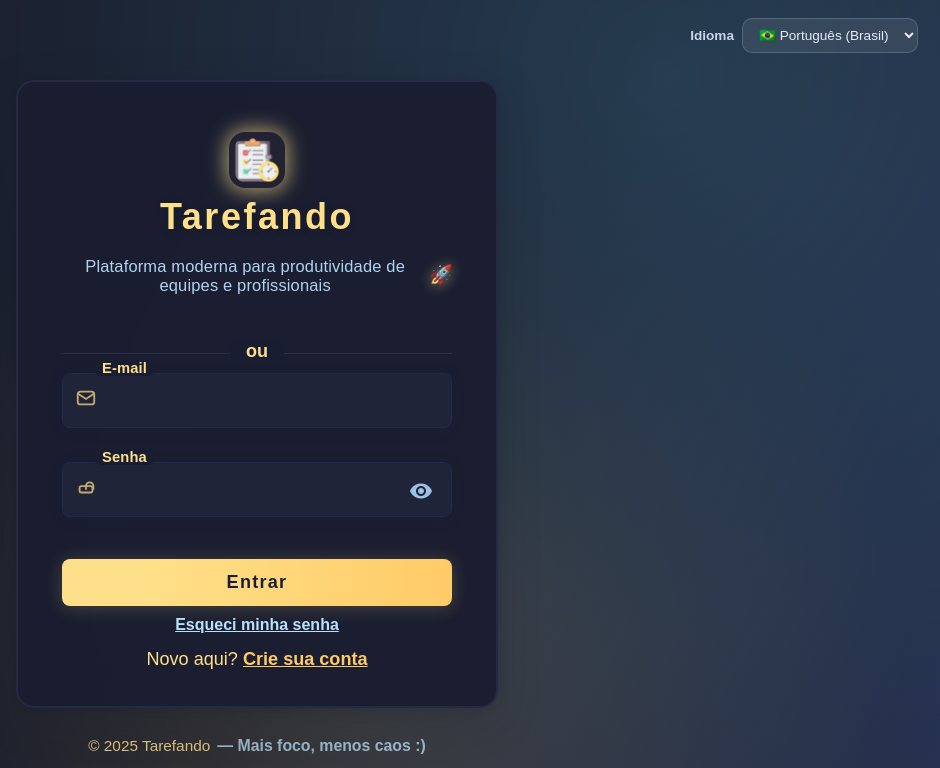
Scenario: Acesso › deve mostrar erro ao tentar entrar com senha errada
Type "invalido@teste.com" into the field with test id "login-email". click: (257, 401)
box: [62,373,452,428]
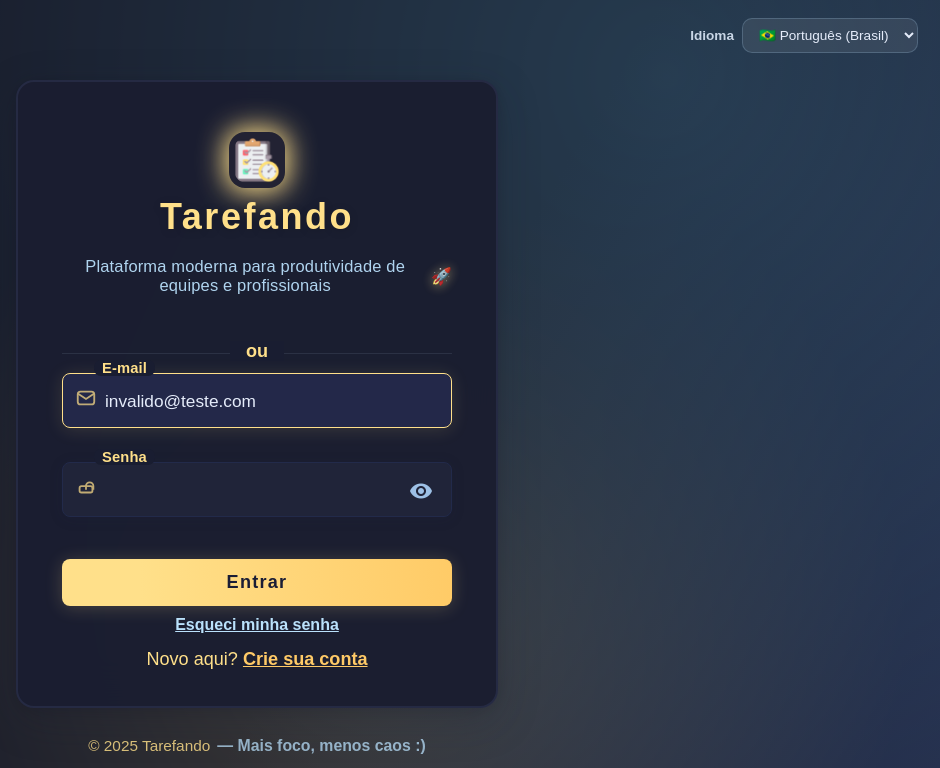
Type "SenhaErrada" into the password field with test id "login-password". click: (257, 490)
box: [62,462,452,517]
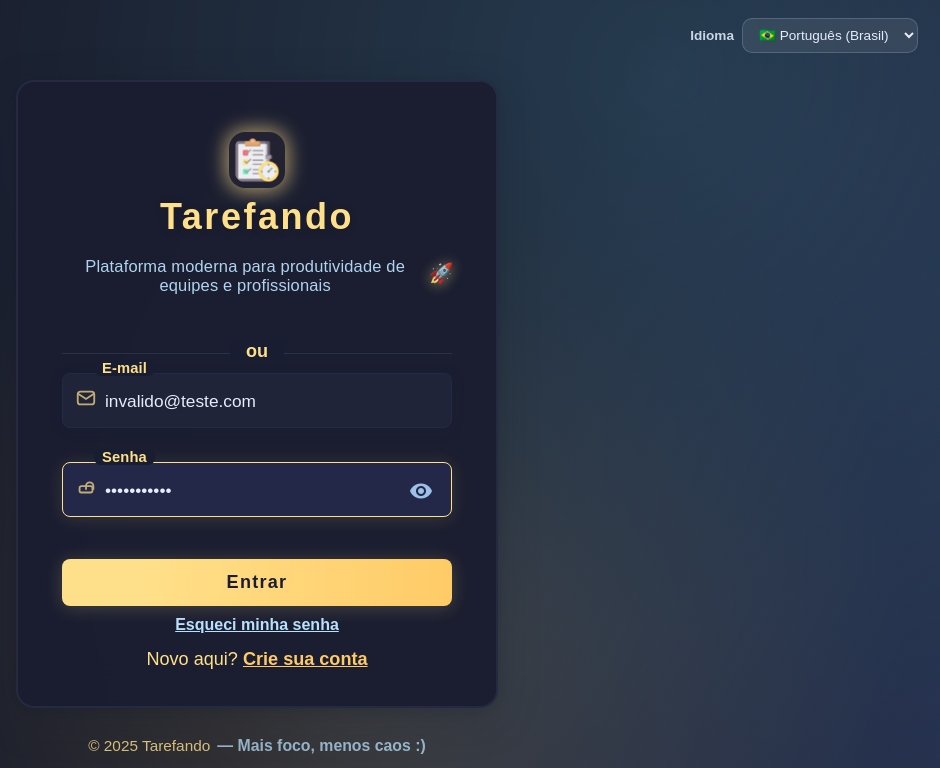
Click the button with test id "login-submit". click: (257, 583)
box: [62,559,452,606]
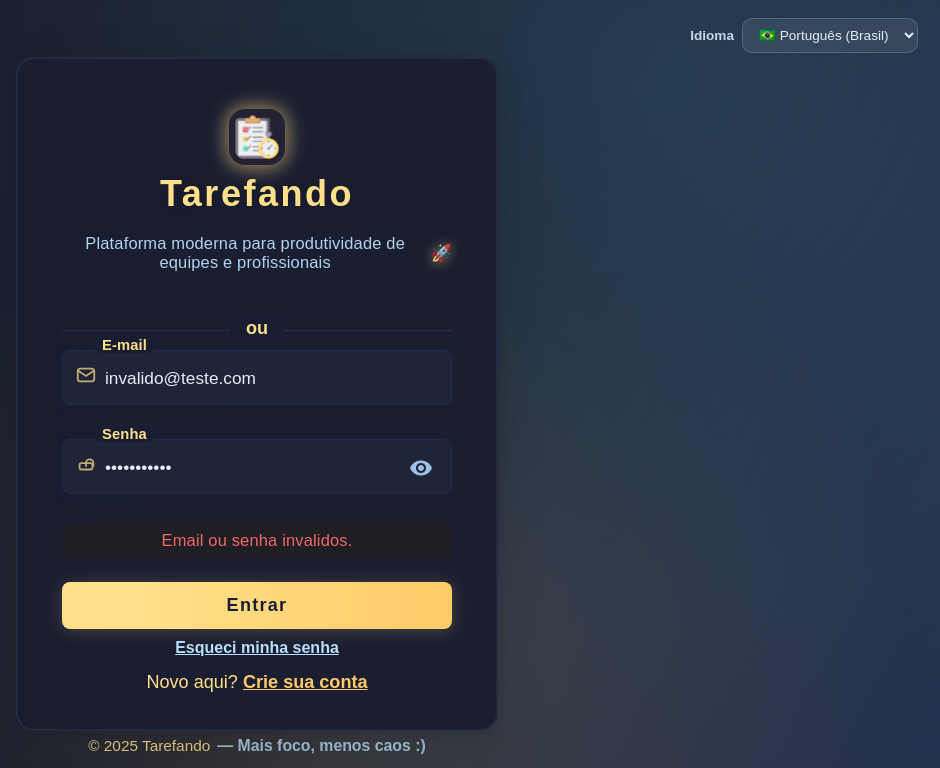
Expected: the text with test id "login-error" reads "Email ou senha invalidos.", [162,531,353,549]
